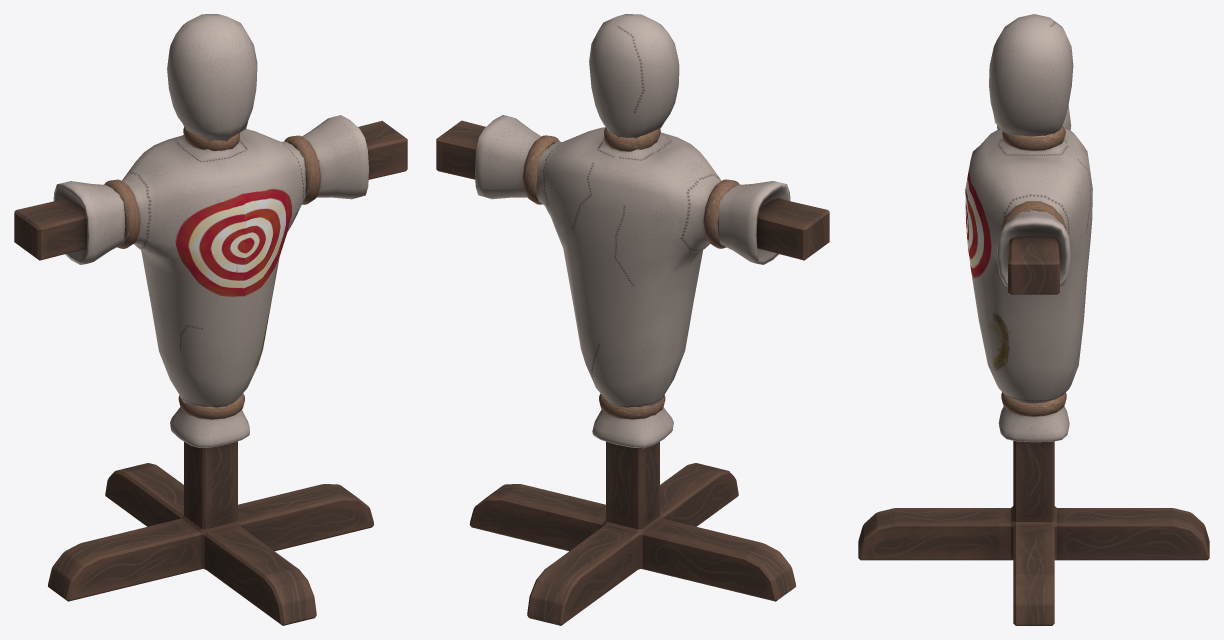
Rendered from dummy.glb.
3 renders of one model, left to right at view 1: azimuth 30°, elevation 25°; view 2: azimuth 150°, elevation 25°; view 3: azimuth 270°, elevation 25°, orthographic.
Visible parts, largest first — view 1: pTorus6; view 2: pTorus6; view 3: pTorus6.
Boxes of the visible parts, x1,y1,x2,y2 form: pTorus6: (14, 14, 407, 625); pTorus6: (436, 14, 829, 625); pTorus6: (858, 14, 1209, 625).
Size of the model in its own units: 1.24 by 1.72 by 1.03.
Materials: 1 (1 with a texture image).
